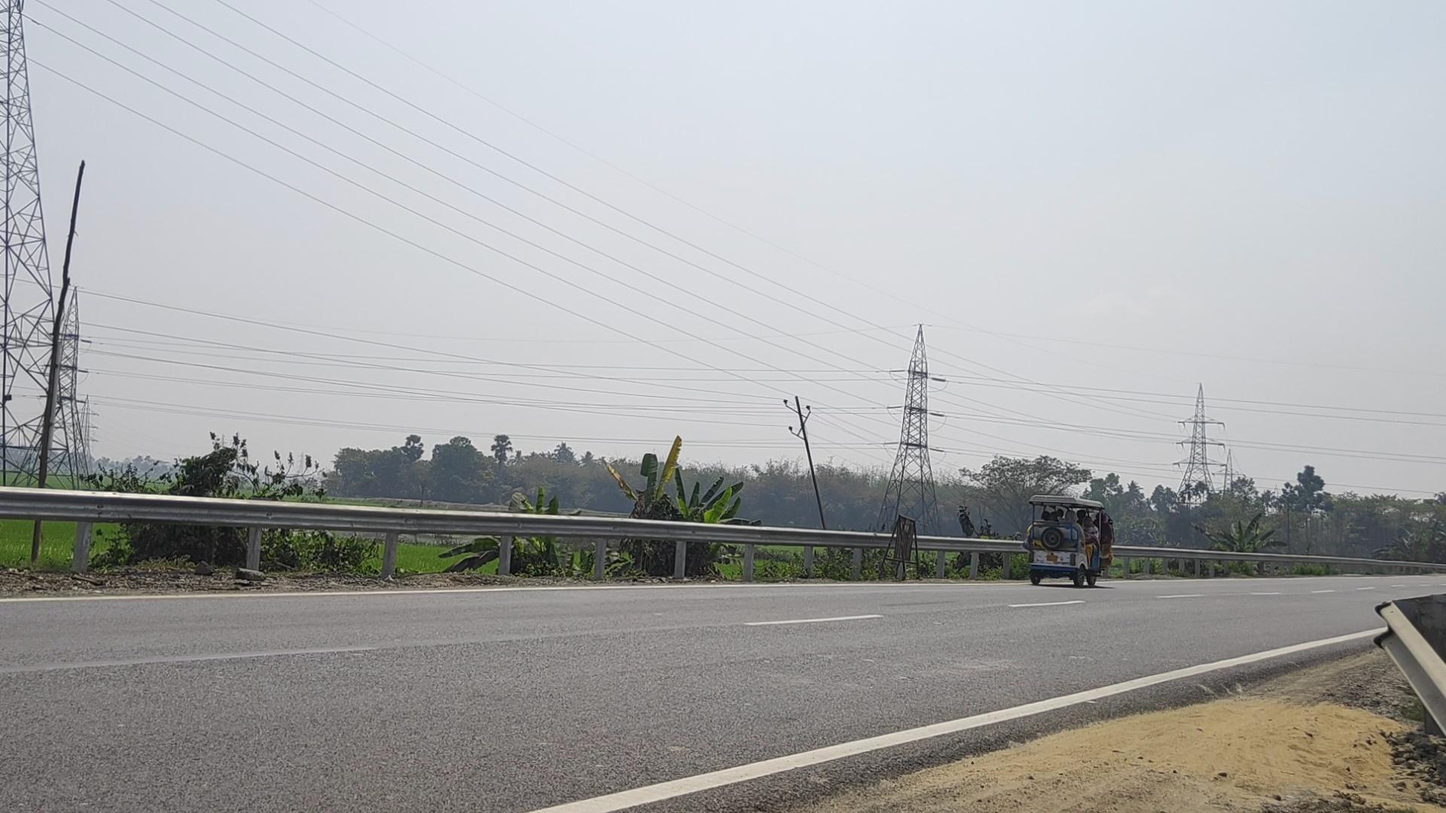Auto: (1025, 495, 1115, 587)
